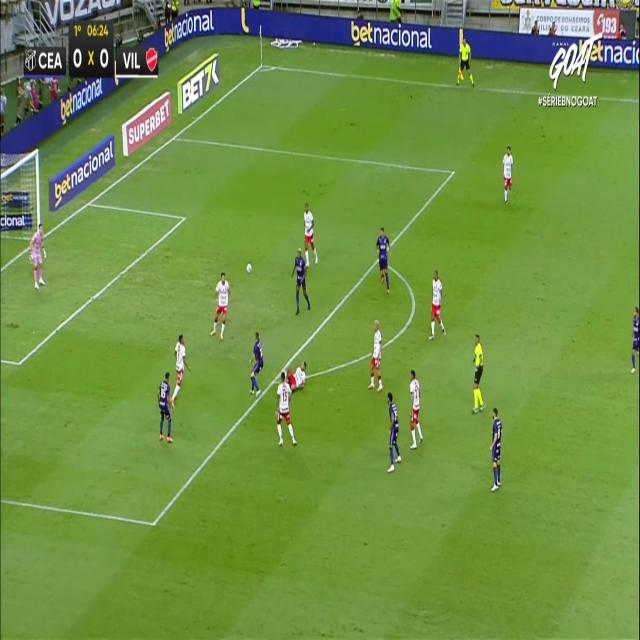ball: (246, 262, 252, 274)
goalkeeper: (29, 222, 47, 289)
player: (275, 370, 297, 445), (169, 333, 191, 407), (210, 271, 230, 340), (291, 247, 310, 315), (387, 391, 402, 472), (429, 269, 446, 339), (278, 359, 315, 391), (367, 318, 383, 391), (157, 371, 173, 443), (409, 368, 423, 449), (302, 202, 318, 267), (490, 406, 502, 491), (249, 331, 264, 395), (376, 227, 390, 294), (629, 306, 640, 377), (502, 146, 514, 204)
referee: (472, 331, 485, 411), (456, 37, 474, 87)
